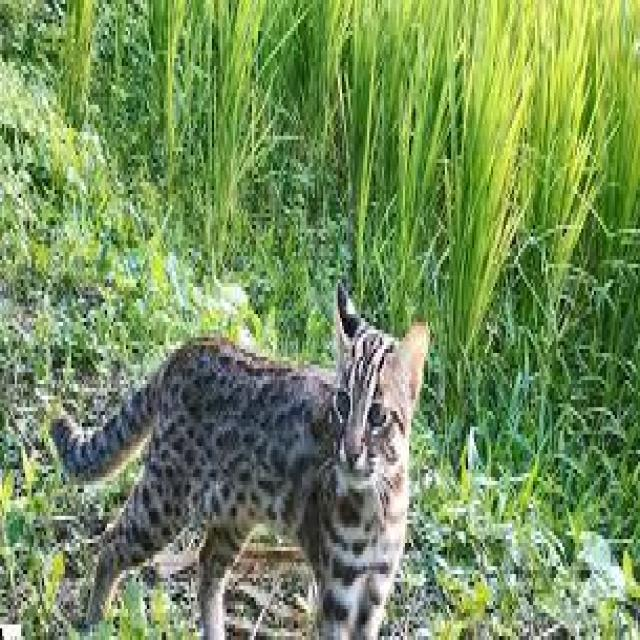leopard: (177, 363, 324, 544), (342, 297, 414, 629)
